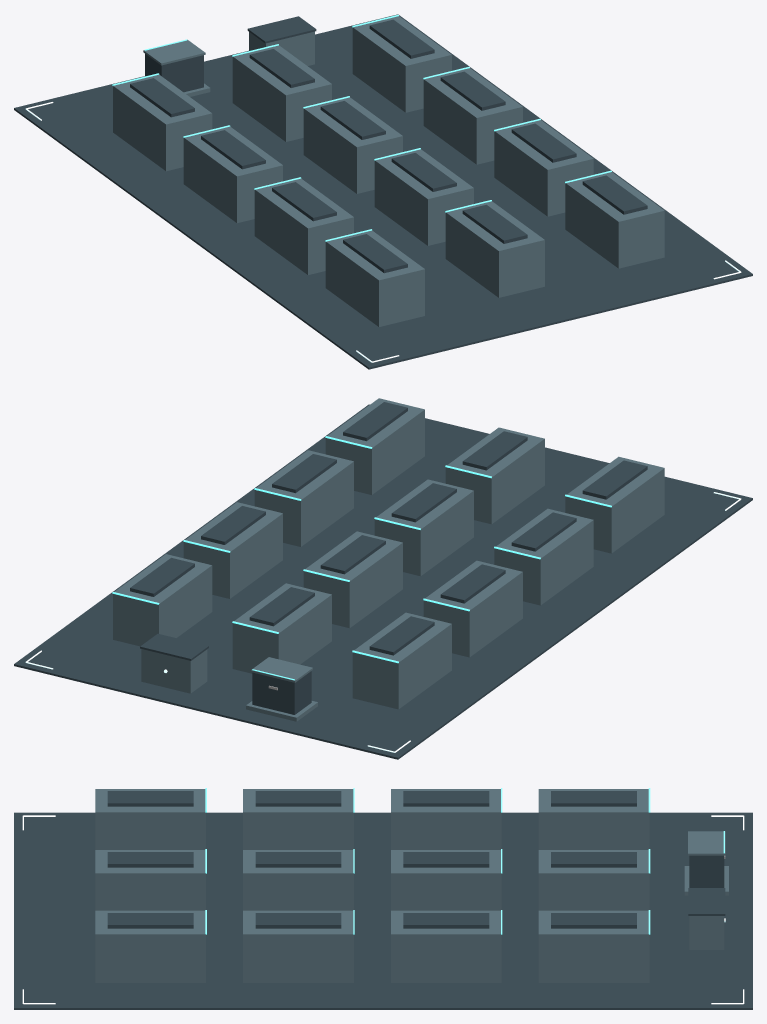
Rendered from battery_storage.lod2.glb.
3 renders of one model, top to bottom at view 1: azimuth 30°, elevation 25°; view 2: azimuth 150°, elevation 25°; view 3: azimuth 270°, elevation 25°, orthographic. The views are drawn at different scales.
Parts seen in each view (by area): view 1: battery_storage_graphite.002, battery_storage_graphite_light.002, battery_storage_edge.002; view 2: battery_storage_graphite.002, battery_storage_graphite_light.002, battery_storage_edge.002; view 3: battery_storage_graphite.002, battery_storage_graphite_light.002, battery_storage_edge.002, battery_storage_white.002.
Boxes of the visible parts, box(x1,y1,x2,y2) form: battery_storage_graphite.002: box(14, 14, 752, 369); battery_storage_graphite_light.002: box(113, 16, 664, 326); battery_storage_edge.002: box(112, 15, 611, 241); battery_storage_graphite.002: box(14, 402, 752, 759); battery_storage_graphite_light.002: box(113, 398, 664, 721); battery_storage_edge.002: box(112, 436, 611, 680); battery_storage_graphite.002: box(14, 791, 752, 1009); battery_storage_graphite_light.002: box(95, 789, 728, 982); battery_storage_edge.002: box(205, 788, 724, 934); battery_storage_white.002: box(22, 815, 744, 1004).
Bounding box in the file's own units: 50 × 6.48 × 80.
